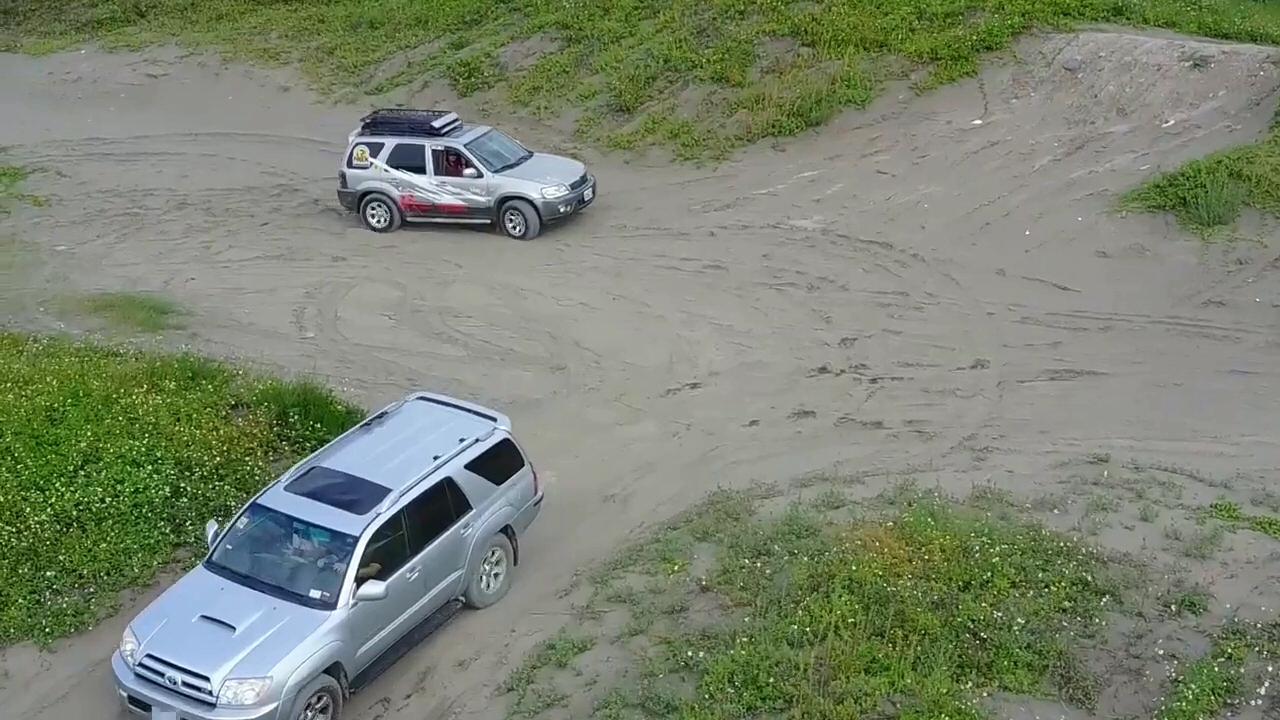araba: (113, 390, 546, 720), (339, 108, 599, 239)
